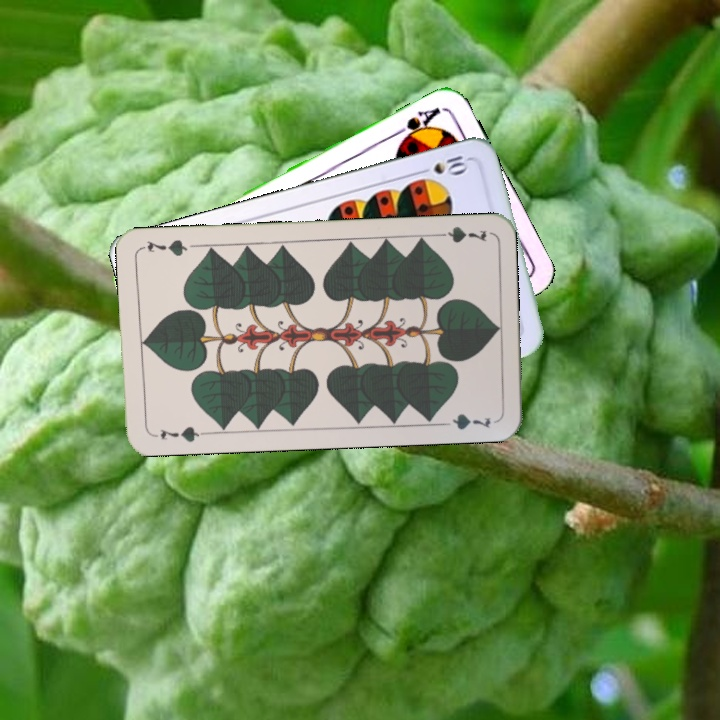G7: (430, 222, 490, 246), (156, 423, 207, 445)
S10: (413, 151, 472, 178)
SA: (390, 102, 444, 146)
